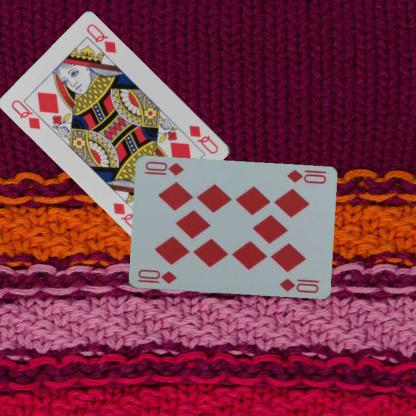10d: (284, 167, 328, 185), (135, 267, 178, 285)
Qd: (9, 97, 50, 132), (186, 122, 220, 155)
